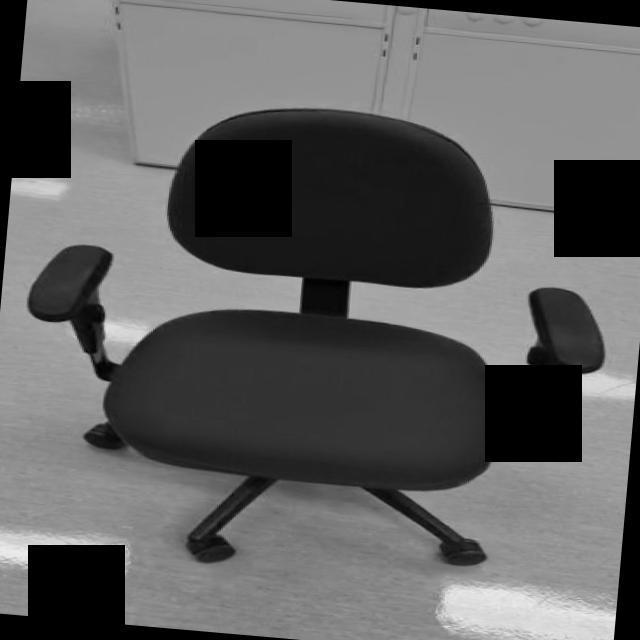chair: (7, 85, 623, 594)
